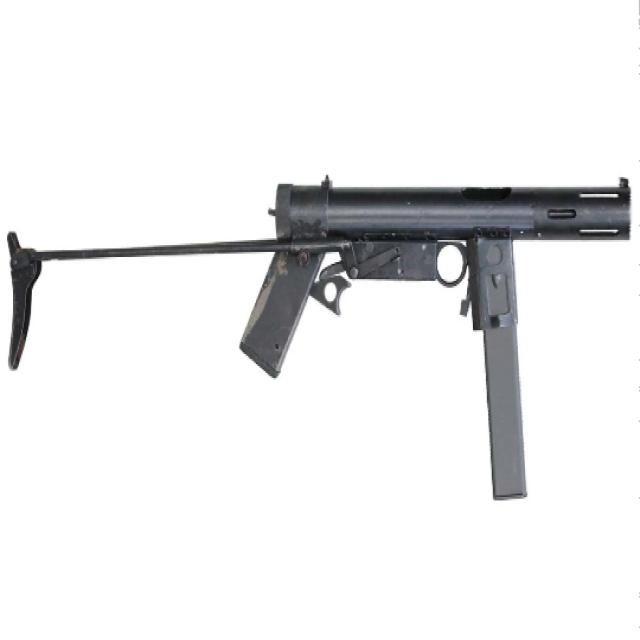firearm: (7, 174, 631, 500)
